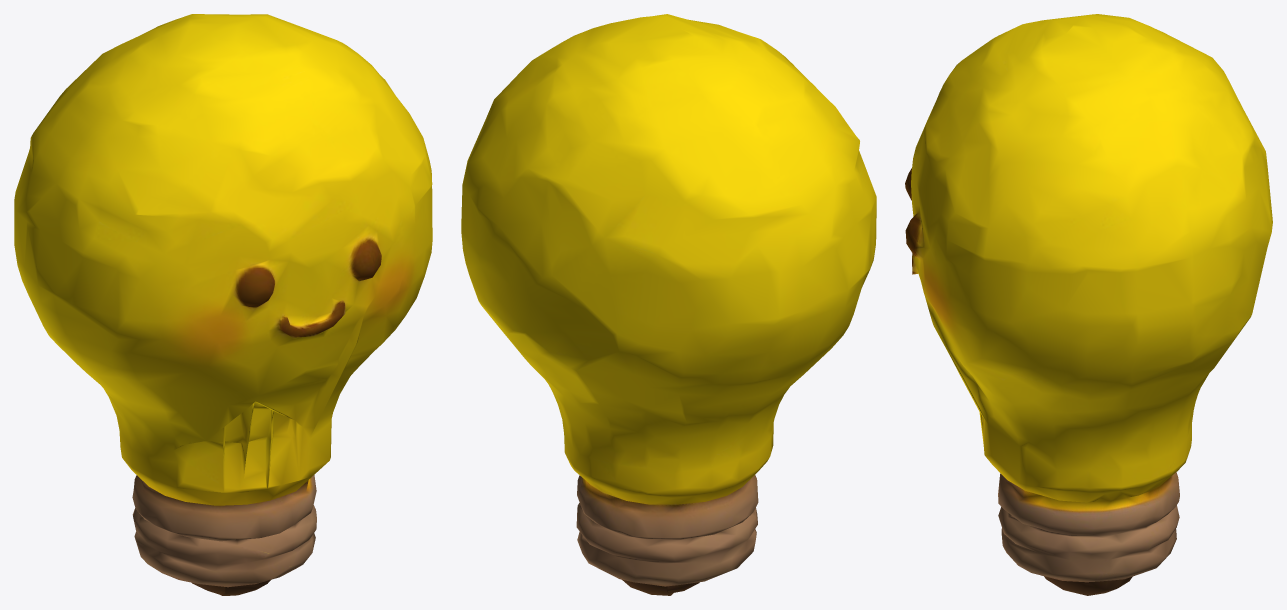
File: foquito.glb
3 views of the same model, side by side, from view 1: azimuth 30°, elevation 25°; view 2: azimuth 150°, elevation 25°; view 3: azimuth 270°, elevation 25° (orthographic).
Parts seen in each view (by area): view 1: tripo_node_6412ccae-c9e2-4187-babb-57bf8226a77b; view 2: tripo_node_6412ccae-c9e2-4187-babb-57bf8226a77b; view 3: tripo_node_6412ccae-c9e2-4187-babb-57bf8226a77b.
Boxes of the visible parts, left/top/right/bottom form: tripo_node_6412ccae-c9e2-4187-babb-57bf8226a77b: left=14, top=14, right=432, bottom=595; tripo_node_6412ccae-c9e2-4187-babb-57bf8226a77b: left=461, top=14, right=876, bottom=595; tripo_node_6412ccae-c9e2-4187-babb-57bf8226a77b: left=905, top=14, right=1272, bottom=595.
Size of the model in its own units: 0.6758 by 0.9805 by 0.5921.
Materials: 1 (1 with a texture image).
